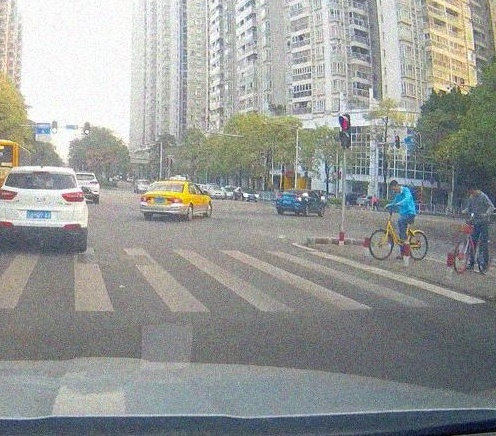L_light: (0, 189, 18, 201), (141, 196, 154, 202), (276, 194, 283, 198)
R_light: (61, 191, 84, 202), (166, 198, 182, 203), (296, 196, 303, 200)
T_light: (34, 171, 49, 175), (166, 183, 173, 185), (292, 190, 297, 192)
day-no: (0, 166, 88, 253), (139, 181, 186, 221), (275, 188, 308, 216)
